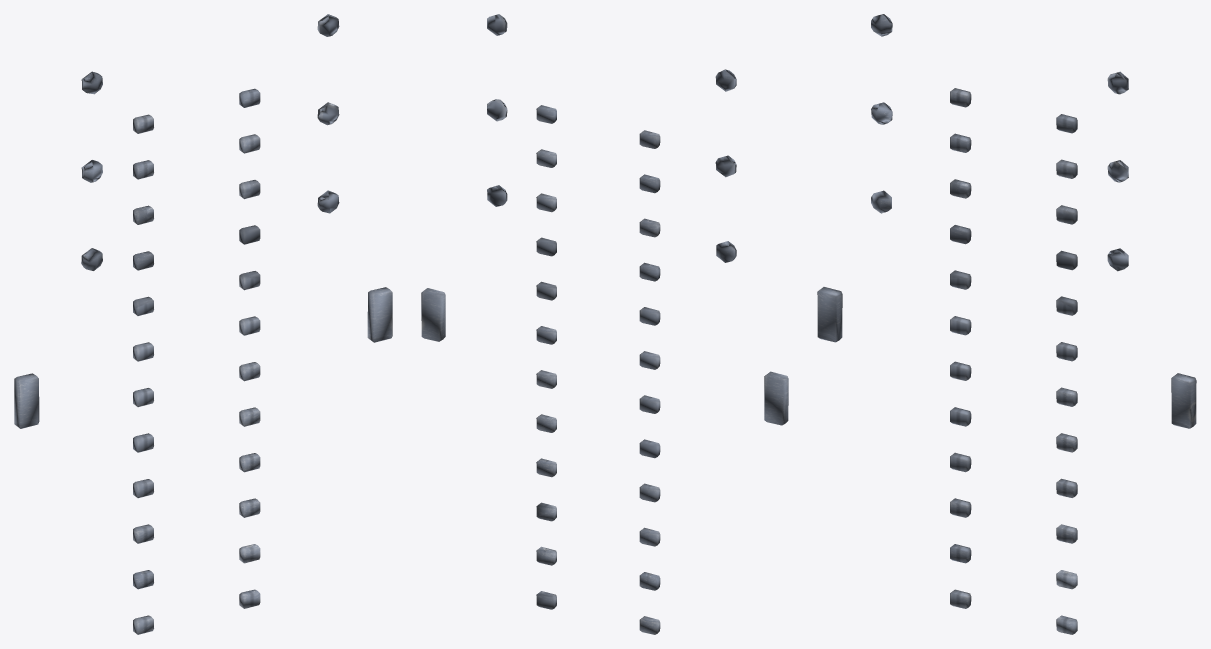
File: MatonImp_Campera_Acero.fbx
The picture shows the model from 3 angles, left to right: view 1: azimuth 30°, elevation 25°; view 2: azimuth 150°, elevation 25°; view 3: azimuth 330°, elevation 25°; orthographic projection. The views are drawn at different scales.
Parts seen in each view (by area): view 1: MatonImp_Campera_Acero; view 2: MatonImp_Campera_Acero; view 3: MatonImp_Campera_Acero.
Part boxes in pixels (x1,y1,x2,y2): MatonImp_Campera_Acero: (14,14,392,634); MatonImp_Campera_Acero: (421,14,788,634); MatonImp_Campera_Acero: (817,14,1196,634).
Size of the model in its own units: 1.13 by 1.69 by 0.1013.
